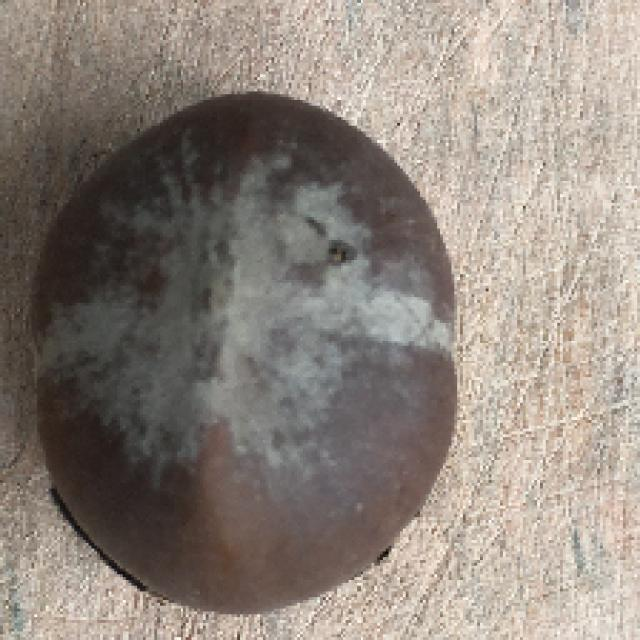DamagedHazelnut: (22, 88, 461, 615)
